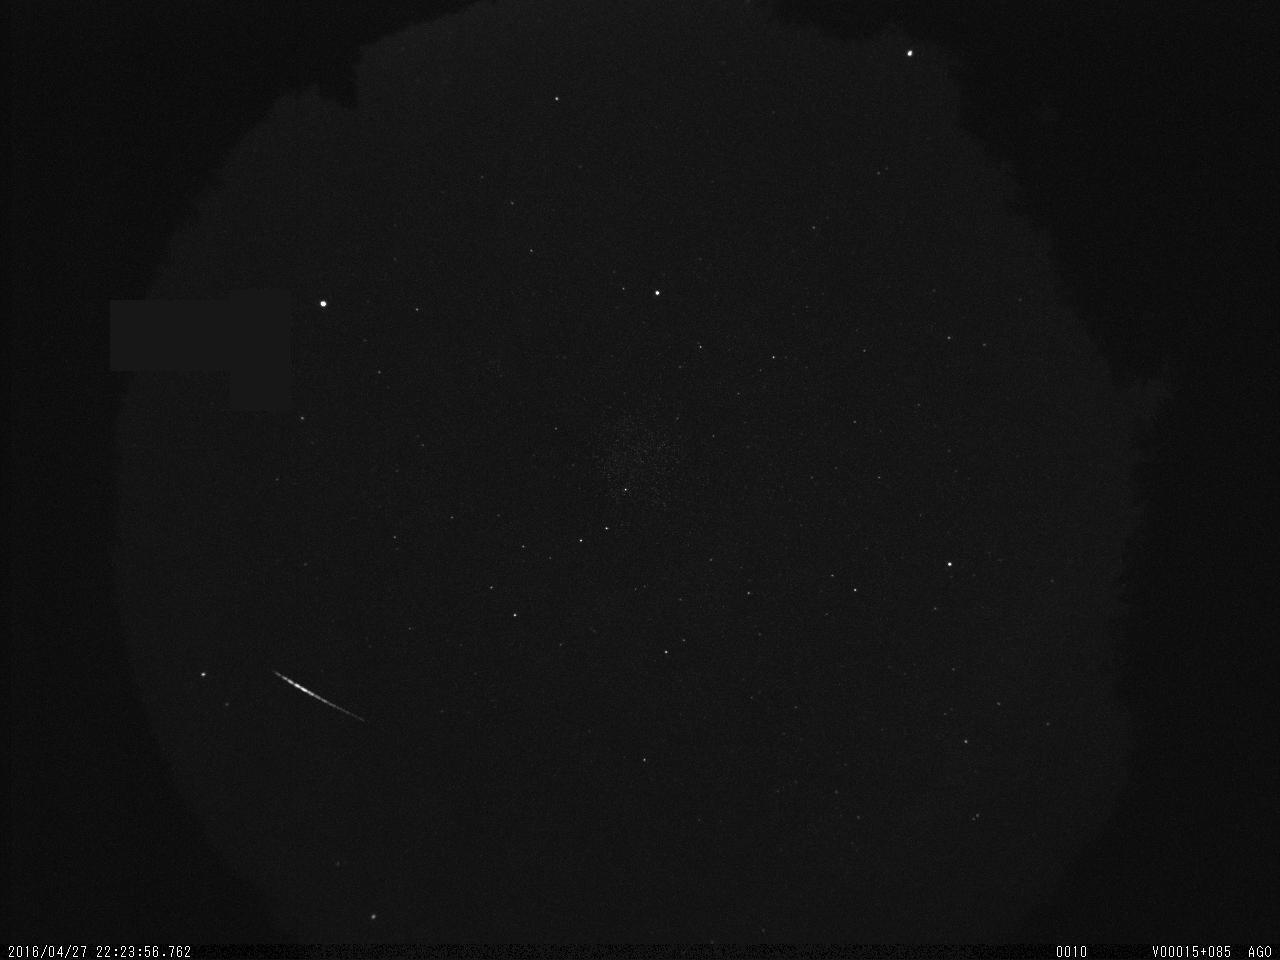meteor: (258, 650, 377, 738)
